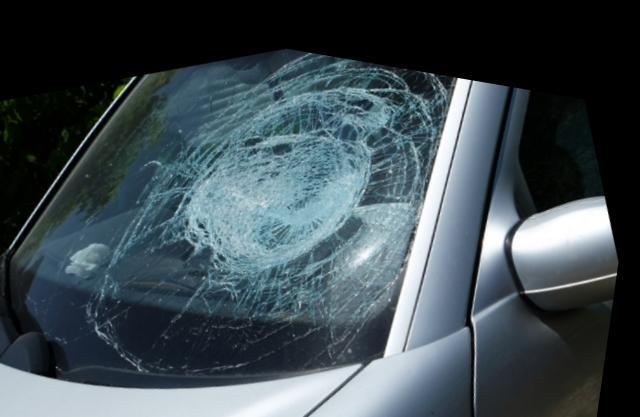glass shatter: (20, 38, 454, 370)
